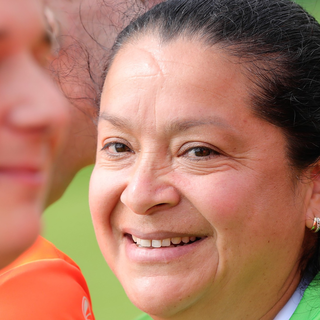eye: (175, 140, 228, 164), (96, 136, 139, 161)
